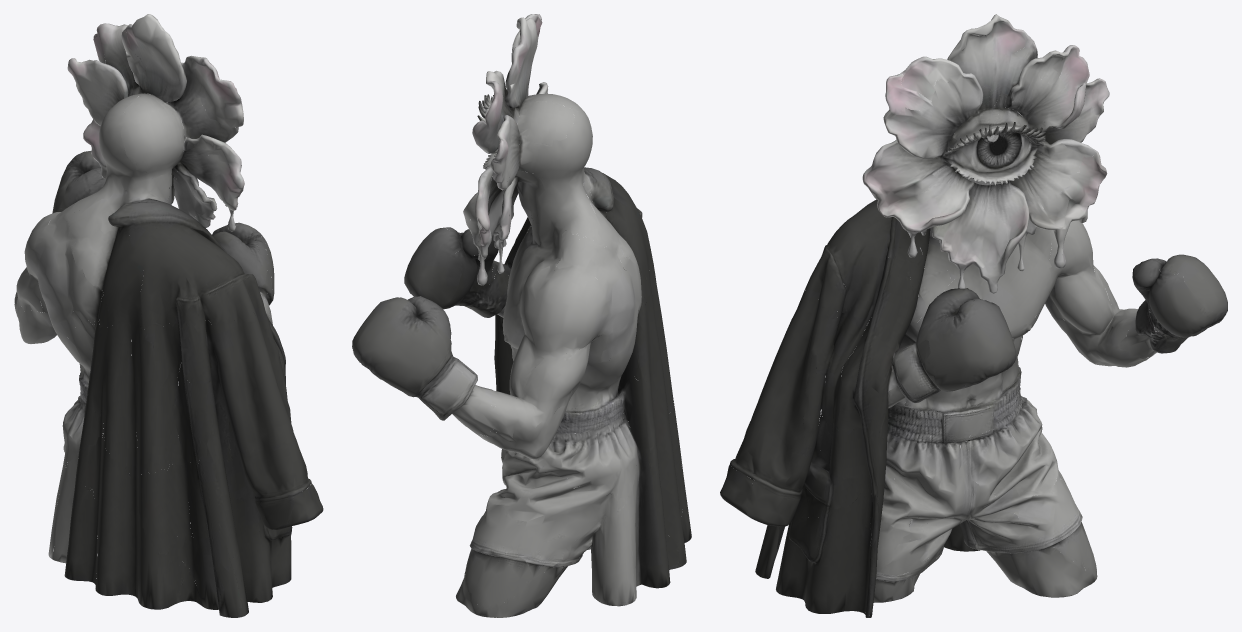
File: boxer.glb
3 views of the same model, side by side, from view 1: azimuth 30°, elevation 25°; view 2: azimuth 150°, elevation 25°; view 3: azimuth 270°, elevation 25° (orthographic). The views are drawn at different scales.
Visible parts, largest first — view 1: tripo_node_32e92495-9b5a-467e-8c59-6b877dbd1230; view 2: tripo_node_32e92495-9b5a-467e-8c59-6b877dbd1230; view 3: tripo_node_32e92495-9b5a-467e-8c59-6b877dbd1230.
Part boxes in pixels (box(x1,y1,x2,y2)): tripo_node_32e92495-9b5a-467e-8c59-6b877dbd1230: box(14, 14, 323, 617); tripo_node_32e92495-9b5a-467e-8c59-6b877dbd1230: box(352, 14, 691, 617); tripo_node_32e92495-9b5a-467e-8c59-6b877dbd1230: box(720, 14, 1227, 617).
Bounding box in the file's own units: 0.4451 × 0.9999 × 0.812.
Materials: 1 (1 with a texture image).
